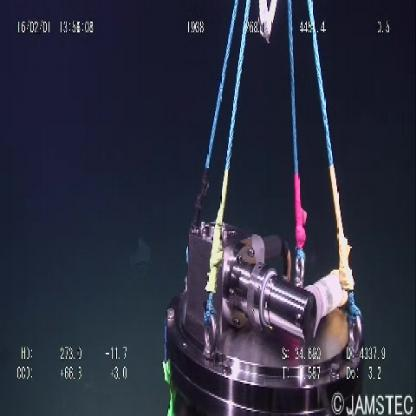Rov: (160, 1, 367, 413)
